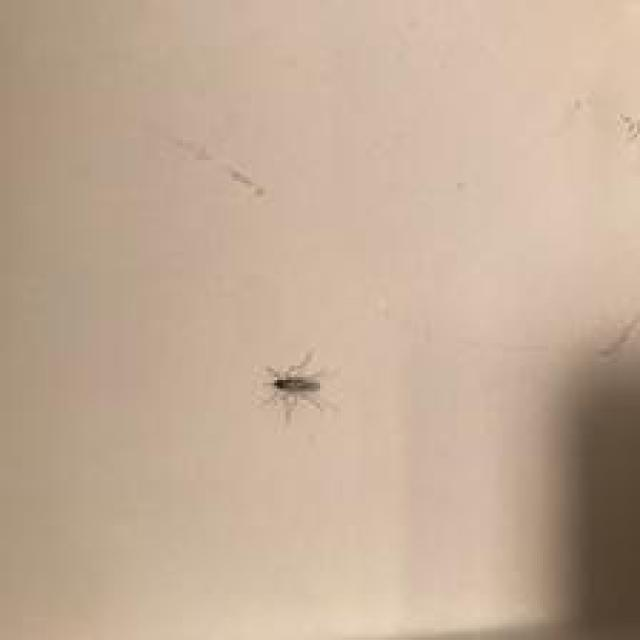Culex: (257, 348, 326, 423)
